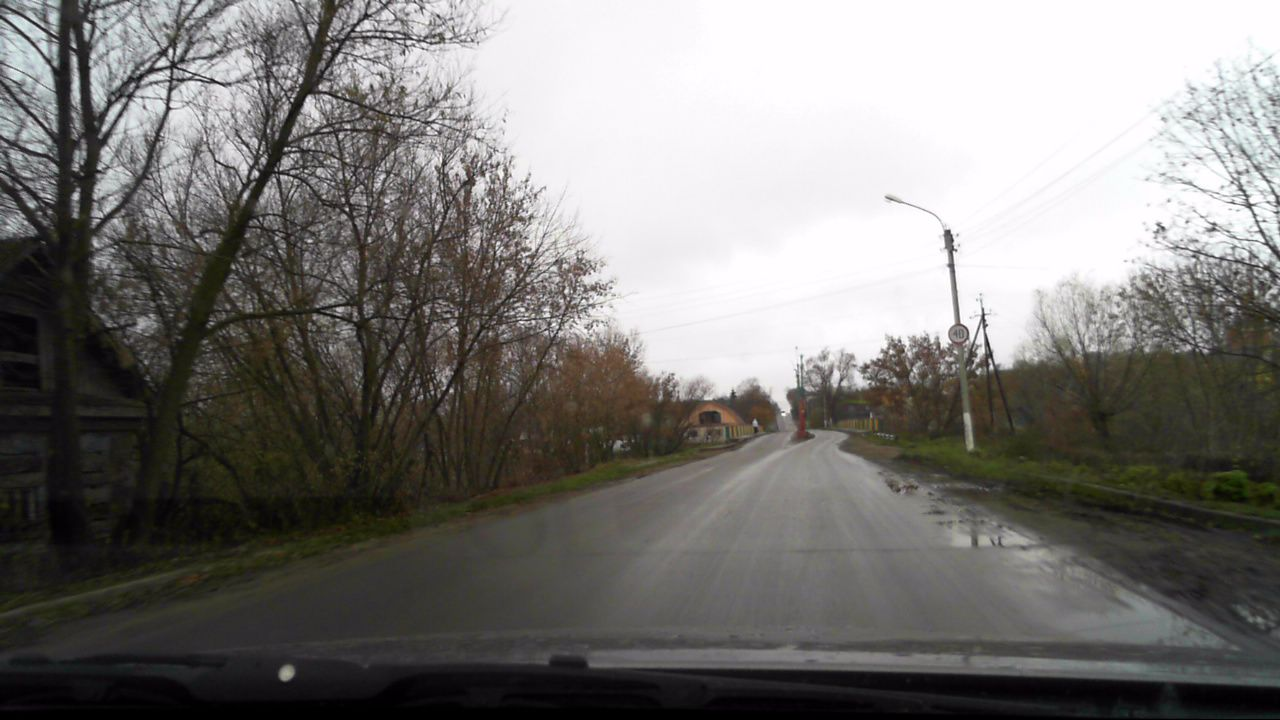speed_warning_40: (947, 322, 970, 345)
